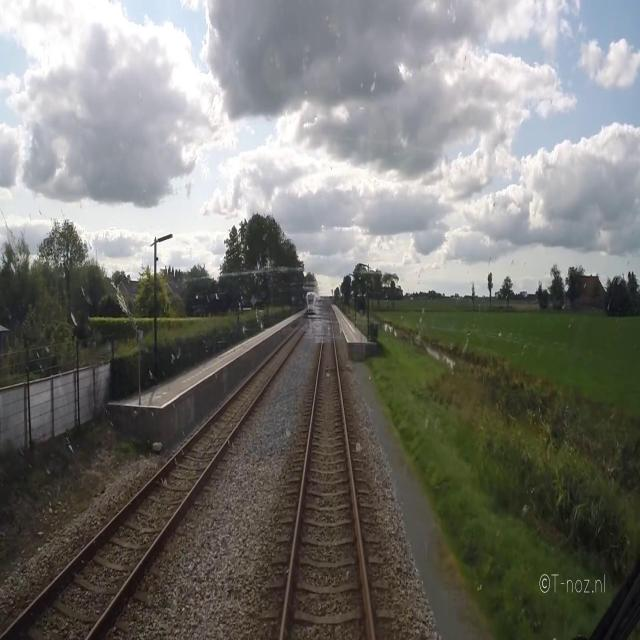rail-track: (5, 317, 311, 639), (284, 304, 370, 639)
